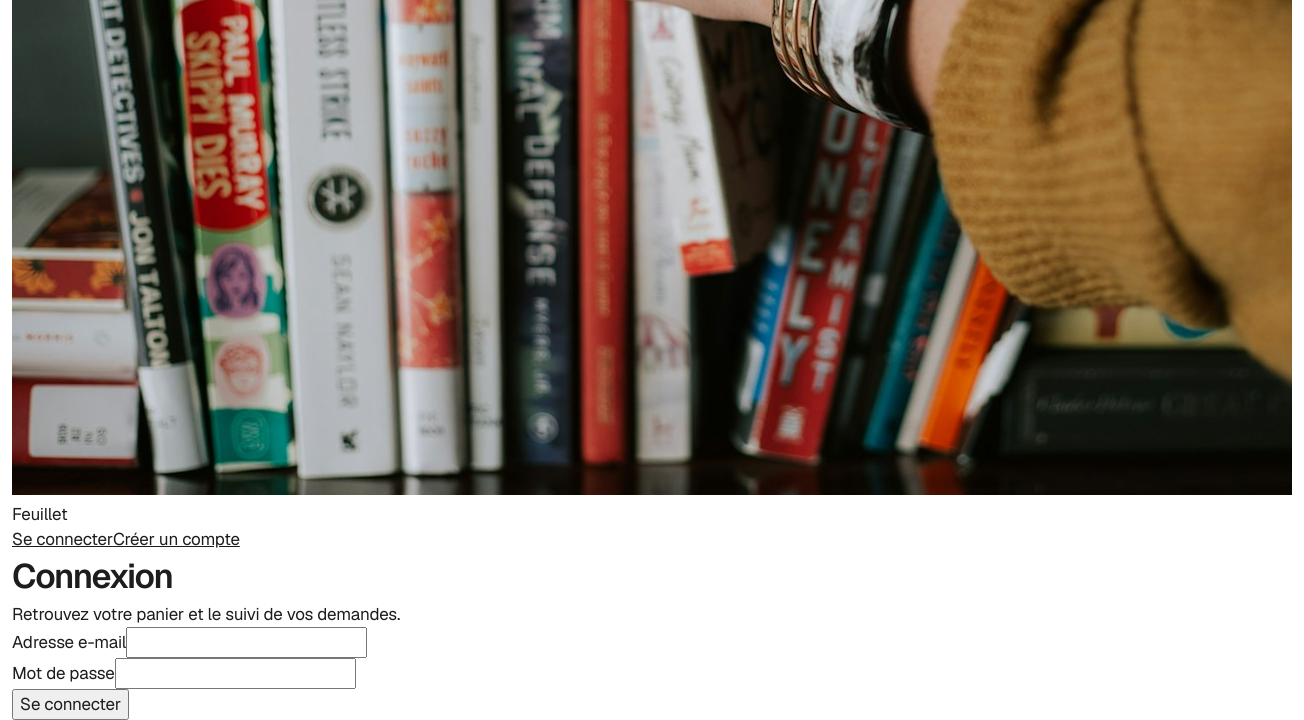
page de connexion › affiche les erreurs du serveur sous chaque champ
This screenshot has width=1304, height=720.
Earlier steps of the test are not shown.
(page scrolled)
Click the button "Se connecter": [70, 704] box top-left (12, 689), bottom-right (129, 719)
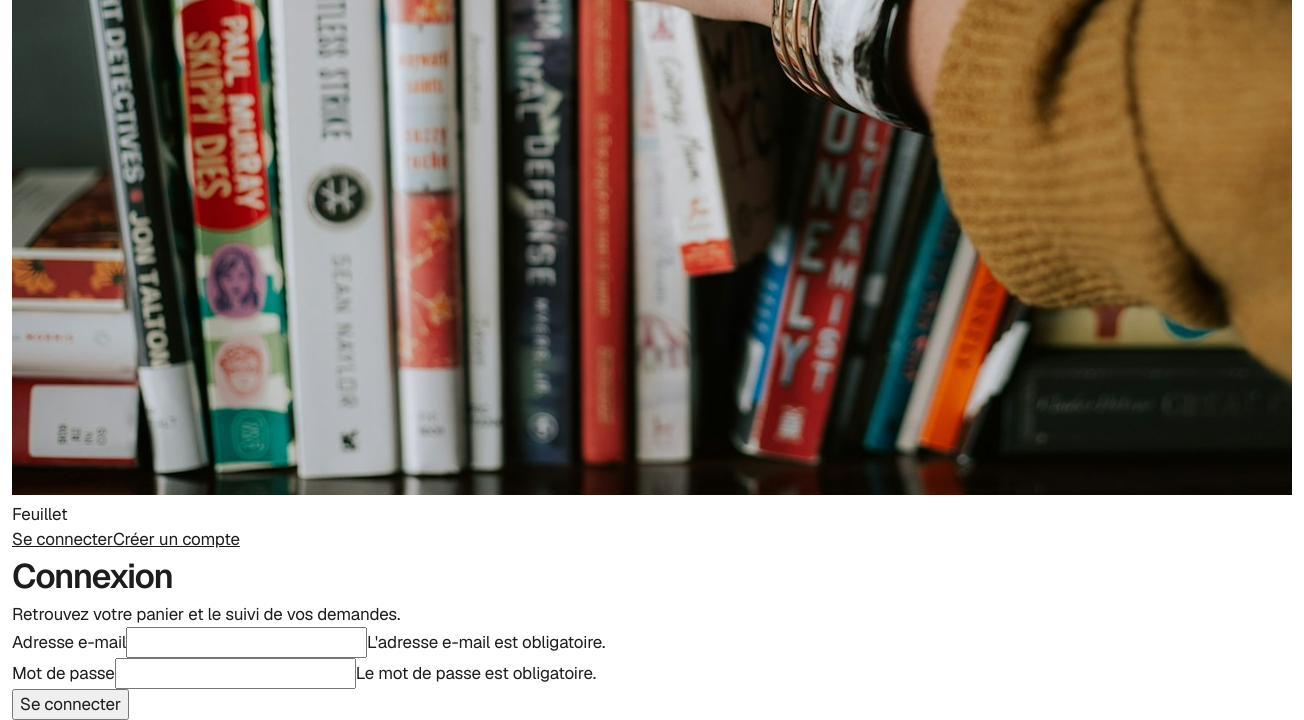
Now the text "L'adresse e-mail est obligatoire." is shown, box top-left (367, 631), bottom-right (605, 653)
Now the text "Le mot de passe est obligatoire." is shown, box top-left (356, 662), bottom-right (596, 684)
